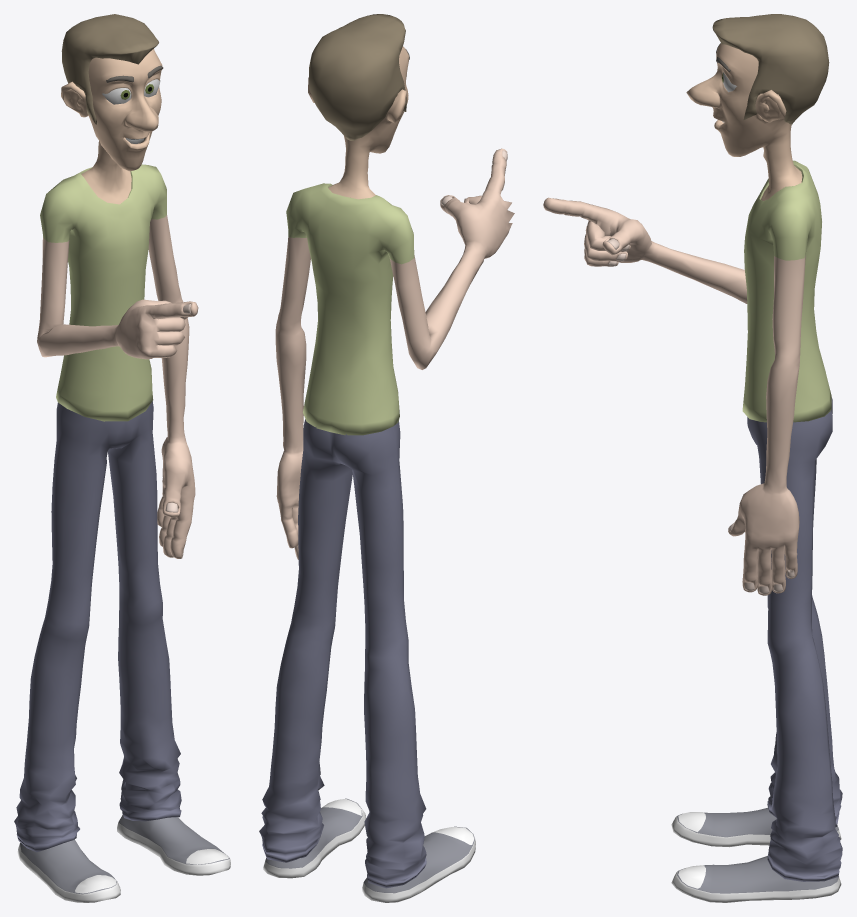
The model's file is goodEnding_pose.fbx.
3 views of the same model, side by side, from view 1: azimuth 30°, elevation 25°; view 2: azimuth 150°, elevation 25°; view 3: azimuth 270°, elevation 25° (orthographic).
Parts seen in each view (by area): view 1: eyeBall1Lf; view 2: eyeBall1Lf; view 3: eyeBall1Lf.
Boxes of the visible parts, x1,y1,x2,y2 form: eyeBall1Lf: (14,14,230,902); eyeBall1Lf: (259,14,514,902); eyeBall1Lf: (543,14,842,902).
Size of the model in its own units: 35.68 by 174 by 56.13.
